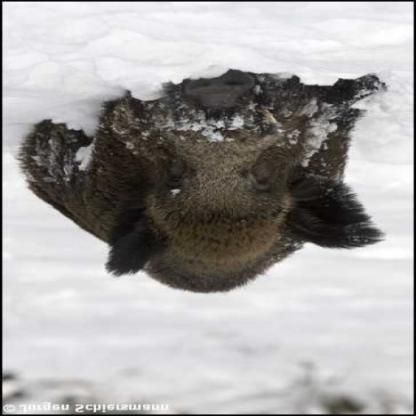boar: (13, 55, 389, 289)
